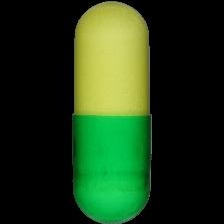21695-139: (0, 0, 224, 224)
